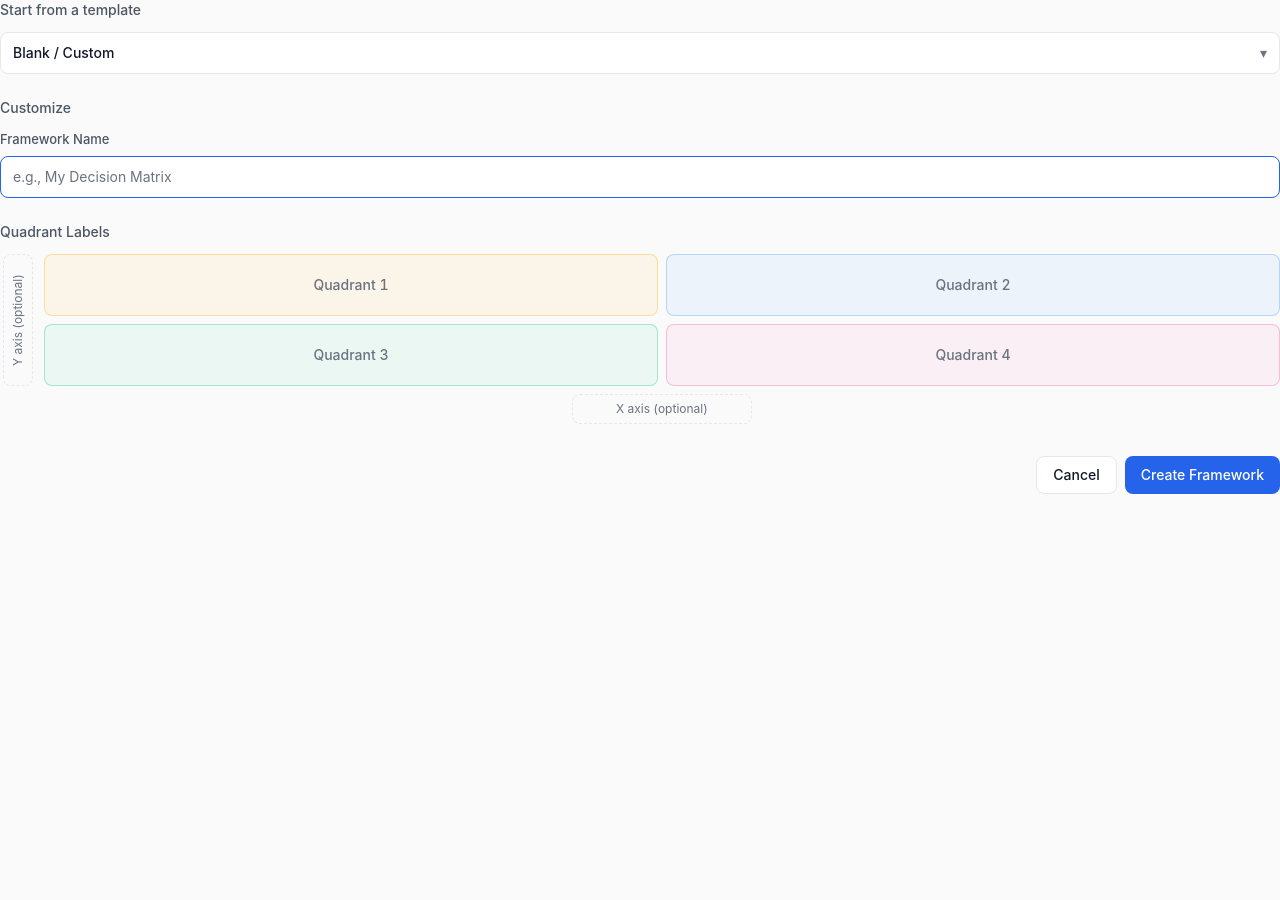
FrameworkBuilderContent › template summary › shows the summary in the mobile layout too
Click the button with aria-label "Choose a template" at (64, 52), box [0,32,1279,74]
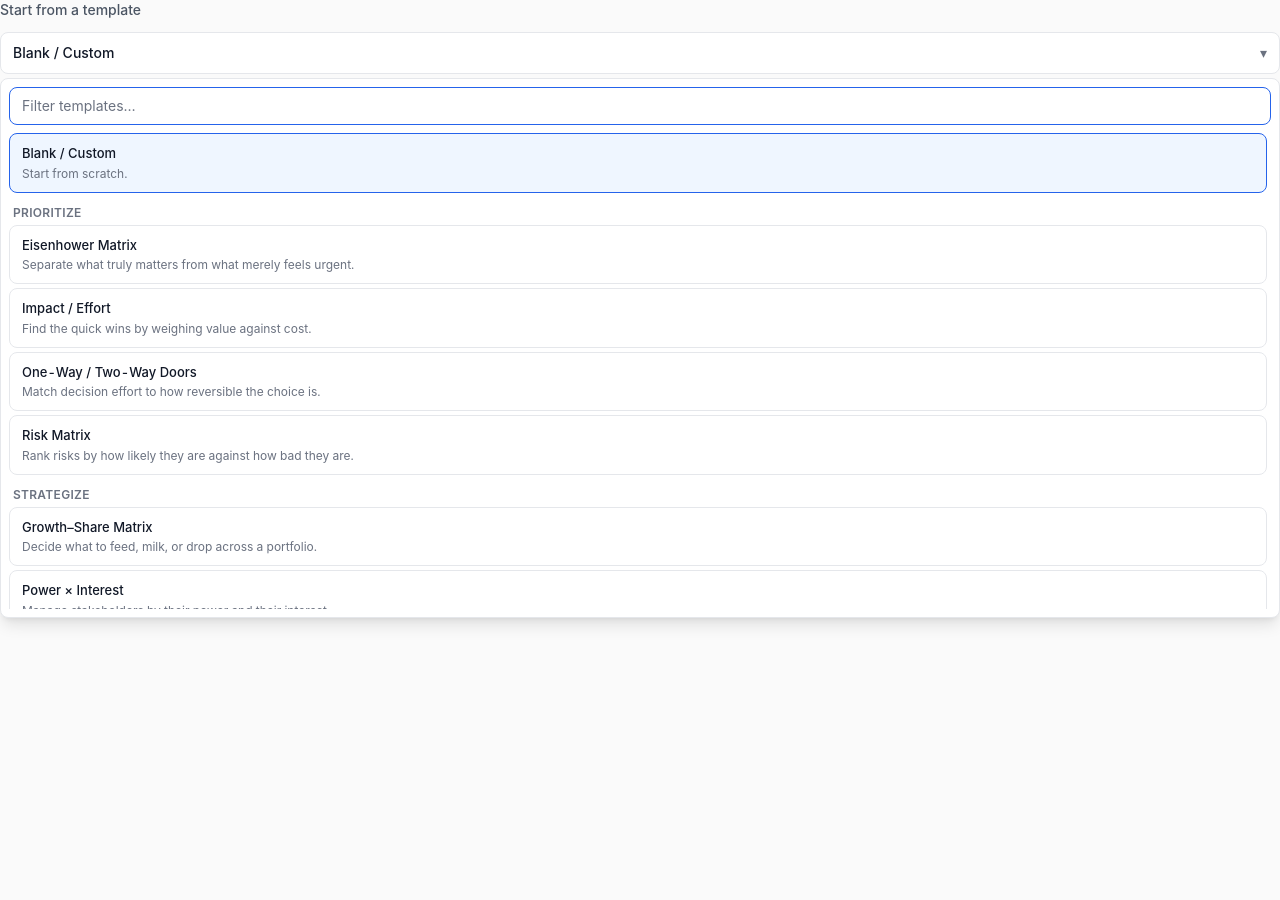
Click the button "Eisenhower Matrix" at (80, 244), box [9,224,1267,284]
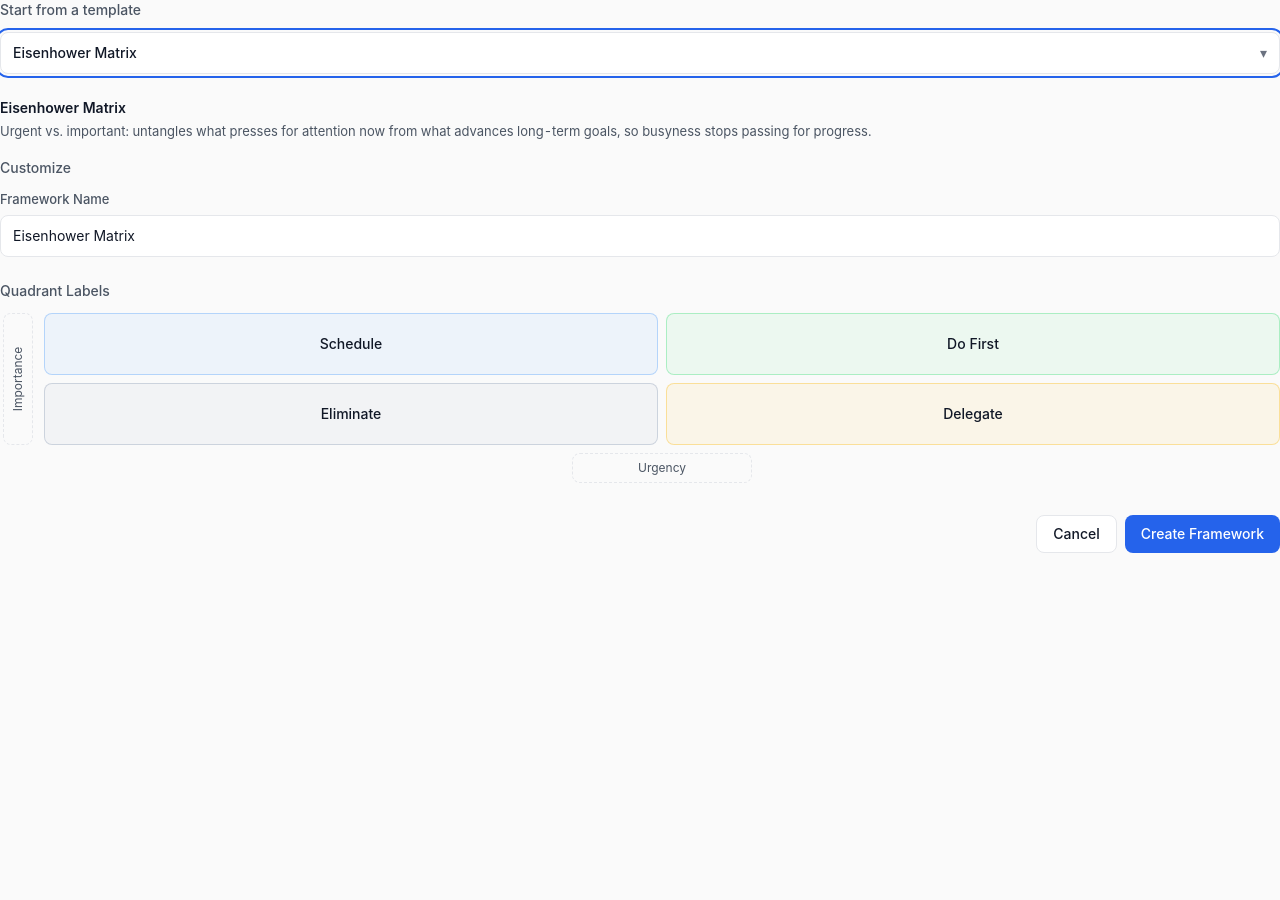
Now the heading "Eisenhower Matrix" is shown, box [0,99,126,116]
Now the text "untangles what presses for attention now" is shown, box [0,123,871,139]
